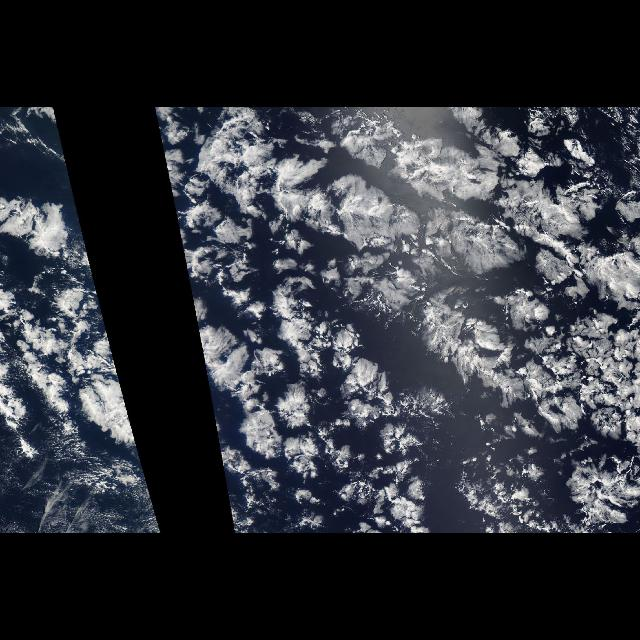Flower: (154, 108, 638, 532), (1, 113, 161, 532)
